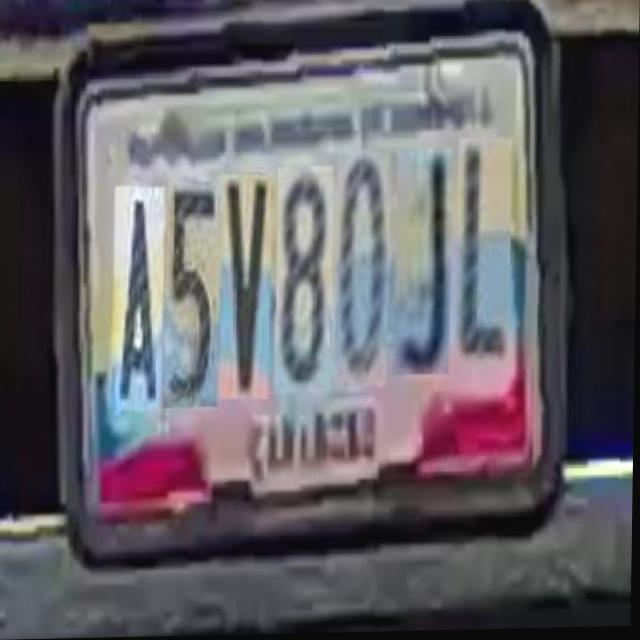5: (163, 180, 222, 408)
8: (275, 164, 333, 392)
a: (112, 185, 165, 412)
j: (393, 145, 453, 372)
l: (456, 134, 513, 363)
o: (335, 151, 390, 386)
v: (220, 173, 273, 398)
